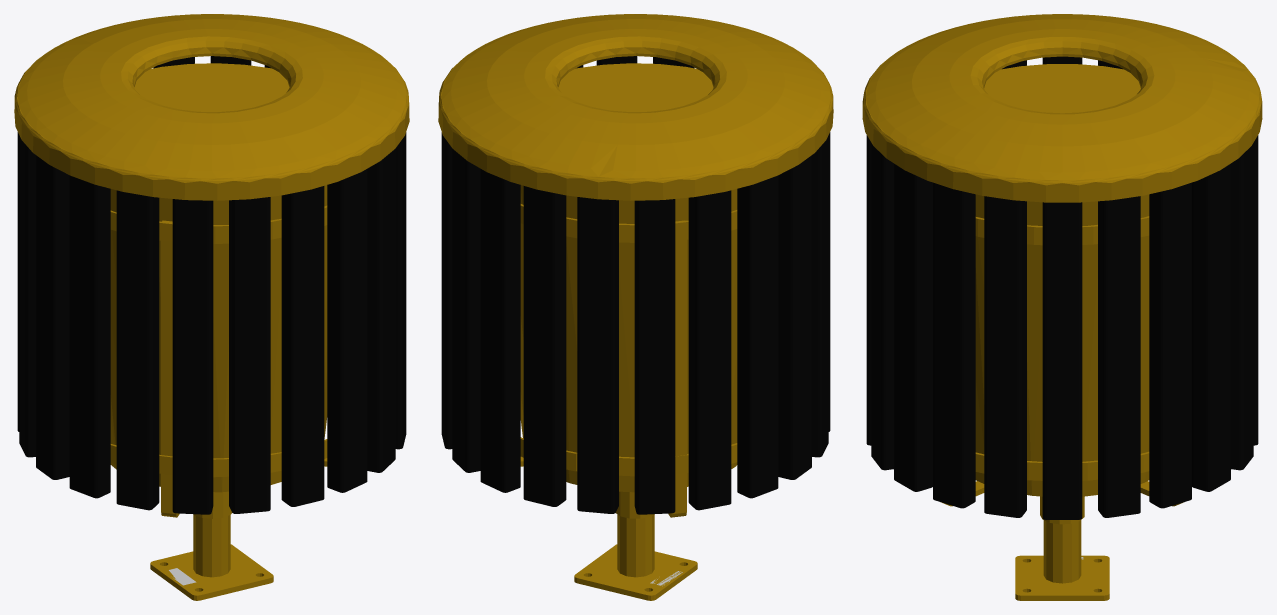
The picture shows the model from 3 angles, left to right: view 1: azimuth 30°, elevation 25°; view 2: azimuth 150°, elevation 25°; view 3: azimuth 270°, elevation 25°; orthographic projection.
Visible parts, largest first — view 1: mesh17.002_mesh17-geometry, mesh67.002_mesh67-geometry, mesh1.033_mesh1-geometry, mesh1.036_mesh1-geometry, mesh1.034_mesh1-geometry, mesh1.035_mesh1-geometry, mesh1.032_mesh1-geometry, mesh1.037_mesh1-geometry, mesh1.031_mesh1-geometry, mesh1.038_mesh1-geometry, mesh1.030_mesh1-geometry, mesh1.039_mesh1-geometry (+7 smaller); view 2: mesh17.002_mesh17-geometry, mesh67.002_mesh67-geometry, mesh1.029_mesh1-geometry, mesh1.026_mesh1-geometry, mesh1.028_mesh1-geometry, mesh1.027_mesh1-geometry, mesh1.030_mesh1-geometry, mesh1.025_mesh1-geometry, mesh1.031_mesh1-geometry, mesh1.024_mesh1-geometry, mesh1.032_mesh1-geometry, mesh1.023_mesh1-geometry (+7 smaller); view 3: mesh17.002_mesh17-geometry, mesh67.002_mesh67-geometry, mesh1.040_mesh1-geometry, mesh1.022_mesh1-geometry, mesh1.039_mesh1-geometry, mesh1.023_mesh1-geometry, mesh1.021_mesh1-geometry, mesh1.038_mesh1-geometry, mesh1.024_mesh1-geometry, mesh1.037_mesh1-geometry, mesh1.025_mesh1-geometry, mesh3.002_mesh3-geometry (+5 smaller).
Boxes of the visible parts, x1=… form: mesh17.002_mesh17-geometry: x1=14, y1=14, x2=409, y2=200; mesh67.002_mesh67-geometry: x1=110, y1=63, x2=327, y2=492; mesh1.033_mesh1-geometry: x1=116, y1=190, x2=159, y2=510; mesh1.036_mesh1-geometry: x1=281, y1=186, x2=324, y2=506; mesh1.034_mesh1-geometry: x1=172, y1=199, x2=213, y2=514; mesh1.035_mesh1-geometry: x1=229, y1=197, x2=270, y2=513; mesh1.032_mesh1-geometry: x1=69, y1=175, x2=110, y2=498; mesh1.037_mesh1-geometry: x1=327, y1=169, x2=367, y2=492; mesh1.031_mesh1-geometry: x1=36, y1=155, x2=69, y2=479; mesh1.038_mesh1-geometry: x1=367, y1=148, x2=395, y2=472; mesh1.030_mesh1-geometry: x1=19, y1=135, x2=35, y2=457; mesh1.039_mesh1-geometry: x1=395, y1=132, x2=406, y2=449; mesh17.002_mesh17-geometry: x1=438, y1=14, x2=833, y2=200; mesh67.002_mesh67-geometry: x1=520, y1=63, x2=737, y2=492; mesh1.029_mesh1-geometry: x1=688, y1=190, x2=731, y2=510; mesh1.026_mesh1-geometry: x1=523, y1=186, x2=566, y2=506; mesh1.028_mesh1-geometry: x1=634, y1=199, x2=675, y2=514; mesh1.027_mesh1-geometry: x1=577, y1=197, x2=618, y2=513; mesh1.030_mesh1-geometry: x1=737, y1=175, x2=778, y2=498; mesh1.025_mesh1-geometry: x1=480, y1=169, x2=520, y2=492; mesh1.031_mesh1-geometry: x1=778, y1=155, x2=811, y2=479; mesh1.024_mesh1-geometry: x1=452, y1=148, x2=480, y2=472; mesh1.032_mesh1-geometry: x1=812, y1=135, x2=828, y2=457; mesh1.023_mesh1-geometry: x1=441, y1=132, x2=452, y2=449; mesh17.002_mesh17-geometry: x1=862, y1=14, x2=1262, y2=202; mesh67.002_mesh67-geometry: x1=975, y1=64, x2=1149, y2=496; mesh1.040_mesh1-geometry: x1=984, y1=196, x2=1026, y2=517; mesh1.022_mesh1-geometry: x1=1098, y1=196, x2=1140, y2=517; mesh1.039_mesh1-geometry: x1=933, y1=182, x2=975, y2=508; mesh1.023_mesh1-geometry: x1=1149, y1=182, x2=1191, y2=508; mesh1.021_mesh1-geometry: x1=1042, y1=202, x2=1082, y2=519; mesh1.038_mesh1-geometry: x1=894, y1=163, x2=932, y2=491; mesh1.024_mesh1-geometry: x1=1192, y1=163, x2=1230, y2=491; mesh1.037_mesh1-geometry: x1=871, y1=143, x2=893, y2=470; mesh1.025_mesh1-geometry: x1=1231, y1=143, x2=1253, y2=470; mesh3.002_mesh3-geometry: x1=1015, y1=555, x2=1109, y2=600.
Size of the model in its own units: 0.5023 by 0.7026 by 0.504.
